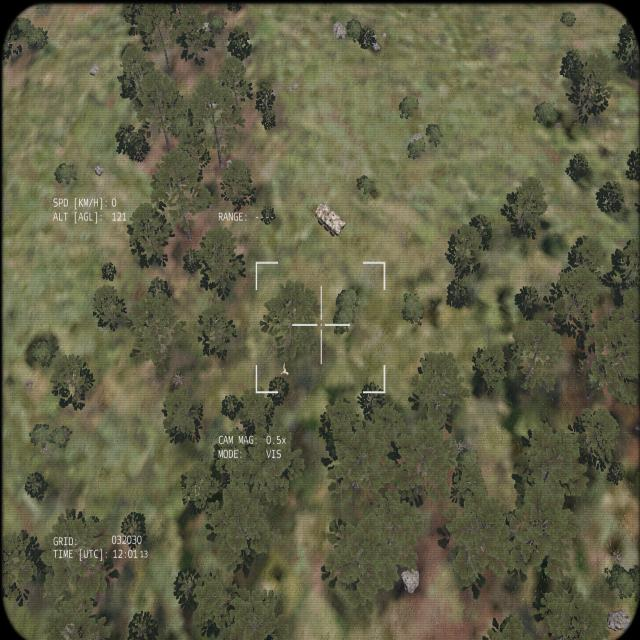apc: (313, 200, 346, 237)
